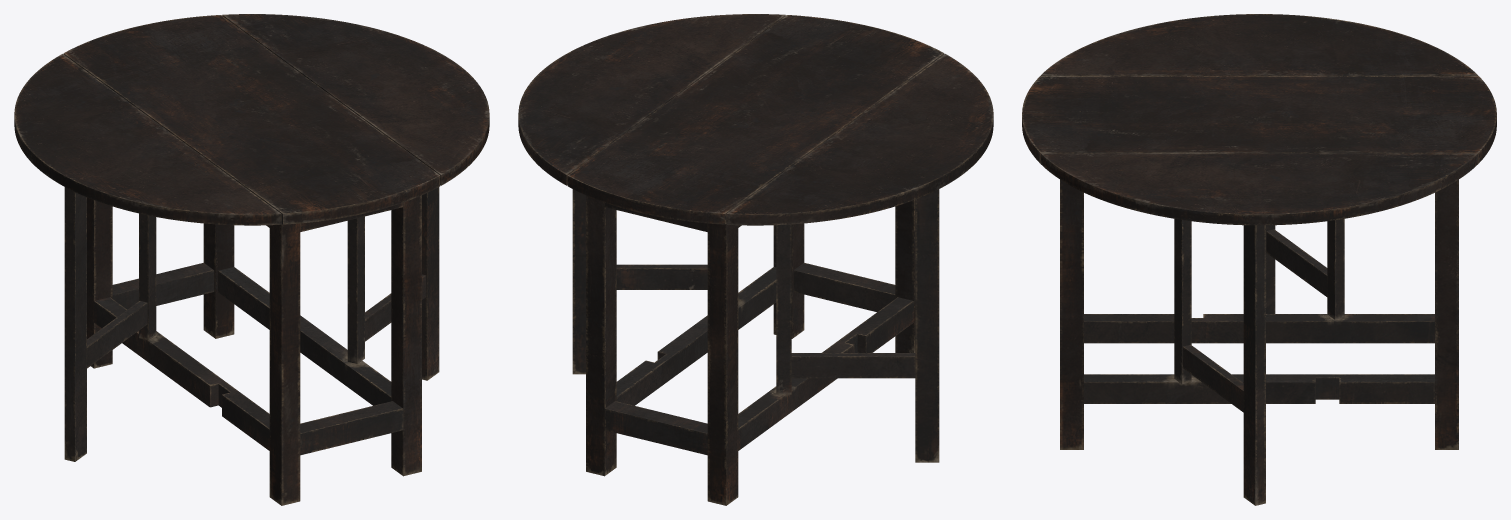
The model's file is table.glb.
The picture shows the model from 3 angles, left to right: view 1: azimuth 30°, elevation 25°; view 2: azimuth 150°, elevation 25°; view 3: azimuth 270°, elevation 25°; orthographic projection.
Parts seen in each view (by area): view 1: pCylinder4 (×2), pCylinder1, pCube17 (×2), pCube15 (×2), pCube18 (×2), pCube21 (×2), pCube22 (×2), pCube19, pCube23 (×2), pCube20, pCube5; view 2: pCylinder4 (×2), pCylinder1, pCube17 (×2), pCube15 (×2), pCube18 (×2), pCube21 (×2), pCube23 (×2), pCube20, pCube19, pCube22, pCube10; view 3: pCylinder4 (×2), pCylinder1, pCube18 (×2), pCube21 (×2), pCube17, pCube15, pCube22 (×2), pCube23 (×2).
Boxes of the visible parts, x1,y1,x2,y2 form: pCylinder4 (×2): (14,14,489,225); pCylinder1: (63,15,440,224); pCube17 (×2): (203,223,300,505); pCube15 (×2): (87,195,421,476); pCube18 (×2): (94,267,391,450); pCube21 (×2): (64,187,439,461); pCube22 (×2): (139,213,364,363); pCube19: (300,401,403,455); pCube23 (×2): (87,274,426,368); pCube20: (112,262,214,309); pCube5: (300,203,403,231); pCylinder4 (×2): (518,14,993,225); pCylinder1: (567,15,944,224); pCube17 (×2): (586,195,915,476); pCube15 (×2): (707,223,804,505); pCube18 (×2): (616,267,913,450); pCube21 (×2): (572,189,939,462); pCube23 (×2): (616,264,915,378); pCube20: (604,401,707,455); pCube19: (793,262,895,311); pCube22: (776,224,791,394); pCube10: (604,203,707,231); pCylinder4 (×2): (1040,14,1478,225); pCylinder1: (1022,76,1496,163); pCube18 (×2): (1084,314,1434,403); pCube21 (×2): (1243,225,1275,505); pCube17: (1435,179,1458,449); pCube15: (1060,179,1083,449); pCube22 (×2): (1174,219,1344,384); pCube23 (×2): (1182,229,1327,412).
Bounding box in the file's own units: 1 × 0.7 × 1.
Materials: 1 (1 with a texture image).
